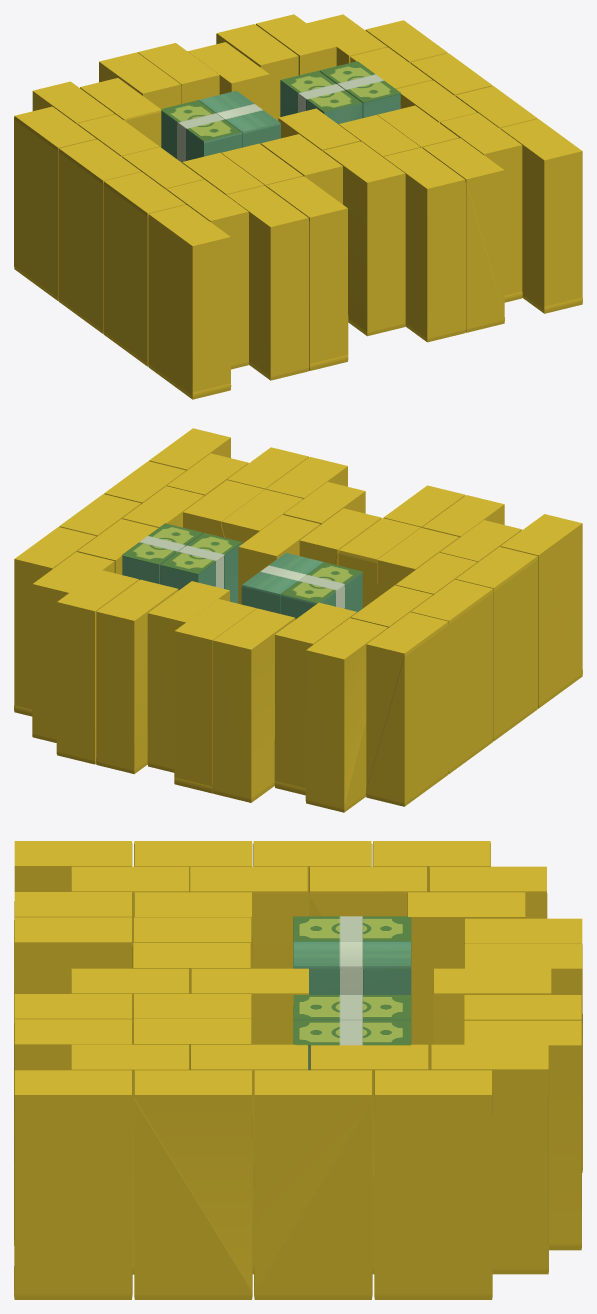
File: boss_ghost 1.fbx
3 views of the same model, one above another, from view 1: azimuth 30°, elevation 25°; view 2: azimuth 150°, elevation 25°; view 3: azimuth 270°, elevation 25° (orthographic). The views are drawn at different scales.
Parts seen in each view (by area): view 1: Cube.006, Cube.005, Cube.003, Cube.001, Cube.008, Cube.011, Cube.012, Cube.013, Cube.002, Cube.004, Cube.009, Cube.010 (+25 smaller); view 2: Cube.013, Cube.020, Cube.016, Cube.035, Cube.006, Cube.012, Cube.011, Cube.036, Cube.034, Cube.018, Cube.033, Cube.038 (+25 smaller); view 3: Cube.005, Cube.021, Cube.022, Cube.019, Cube.038, Cube.036, Cube.018, Cube.002, Cube.014, Cube.028, Cube.015, Cube.031 (+25 smaller).
Part boxes in pixels (x1,y1,x2,y2): Cube.006: (148, 205, 231, 399); Cube.005: (500, 119, 582, 313); Cube.003: (383, 147, 465, 342); Cube.001: (226, 186, 309, 380); Cube.008: (323, 141, 405, 336); Cube.011: (103, 172, 185, 366); Cube.012: (58, 139, 140, 333); Cube.013: (14, 106, 96, 301); Cube.002: (266, 176, 348, 370); Cube.004: (422, 138, 504, 332); Cube.009: (440, 113, 522, 302); Cube.010: (166, 179, 248, 369); Cube.013: (366, 612, 448, 806); Cube.020: (212, 608, 295, 802); Cube.016: (305, 618, 387, 812); Cube.035: (96, 579, 178, 774); Cube.006: (500, 514, 582, 708); Cube.012: (411, 579, 493, 773); Cube.011: (455, 547, 537, 741); Cube.036: (56, 570, 138, 764); Cube.034: (174, 599, 256, 793); Cube.018: (274, 602, 356, 795); Cube.033: (147, 581, 229, 772); Cube.038: (32, 552, 114, 742); Cube.005: (14, 1070, 132, 1299); Cube.021: (254, 1070, 372, 1299); Cube.022: (374, 1070, 492, 1299); Cube.019: (134, 1070, 252, 1299); Cube.038: (431, 1044, 548, 1274); Cube.036: (464, 1020, 581, 1250); Cube.018: (407, 892, 525, 1070); Cube.002: (14, 917, 132, 1002); Cube.014: (190, 866, 307, 968); Cube.028: (293, 941, 411, 1021); Cube.015: (309, 866, 426, 916); Cube.031: (191, 968, 309, 1044).
Bounding box in the file's own units: 2049 × 1938 × 770.
